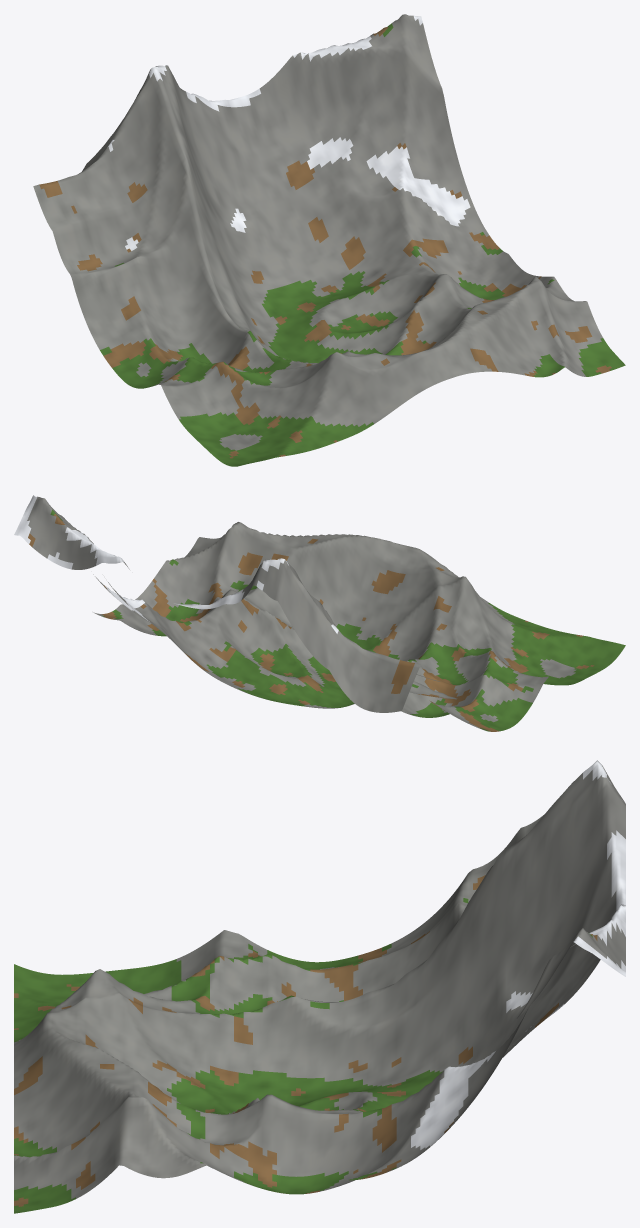
The model's file is chunk_2_0.glb.
3 views of the same model, one above another, from view 1: azimuth 30°, elevation 25°; view 2: azimuth 150°, elevation 25°; view 3: azimuth 270°, elevation 25° (orthographic). The views are drawn at different scales.
Visible parts, largest first — view 1: Surface_Gravel, Surface_Grass, Surface_Dirt, Surface_Snow; view 2: Surface_Gravel, Surface_Grass, Surface_Dirt, Surface_Snow; view 3: Surface_Gravel, Surface_Grass, Surface_Dirt, Surface_Snow.
Part boxes in pixels (left/top/right/bottom): Surface_Gravel: left=33, top=14, right=602, bottom=450; Surface_Grass: left=100, top=23, right=625, bottom=466; Surface_Dirt: left=39, top=27, right=611, bottom=458; Surface_Snow: left=107, top=15, right=470, bottom=250; Surface_Gravel: left=27, top=496, right=576, bottom=730; Surface_Grass: left=50, top=509, right=625, bottom=731; Surface_Dirt: left=28, top=513, right=594, bottom=731; Surface_Snow: left=14, top=495, right=338, bottom=633; Surface_Gravel: left=14, top=765, right=625, bottom=1198; Surface_Grass: left=14, top=898, right=592, bottom=1213; Surface_Dirt: left=14, top=875, right=597, bottom=1206; Surface_Snow: left=411, top=760, right=625, bottom=1149.
Bounding box in the file's own units: 256 × 142 × 256.
